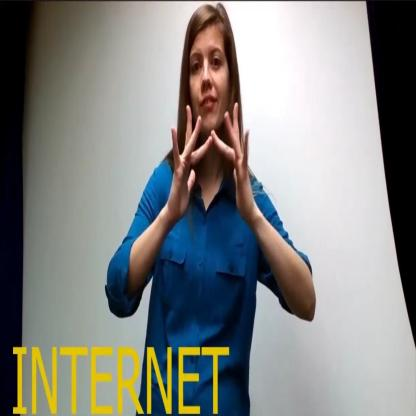Internet: (170, 100, 258, 225)
